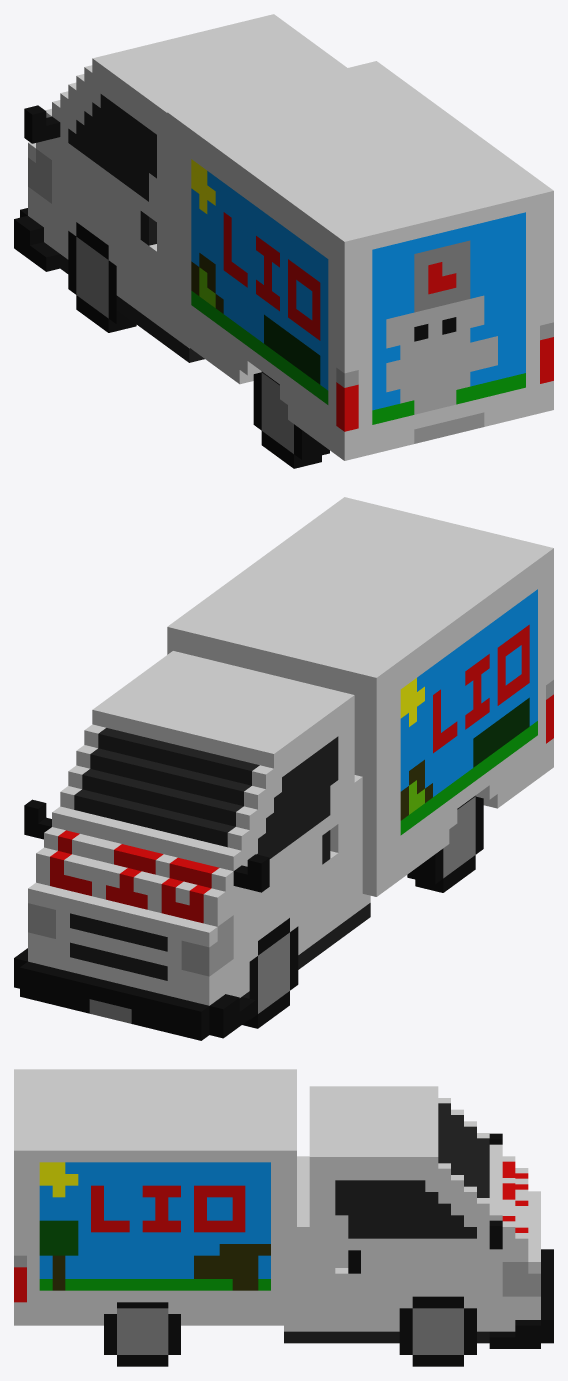
File: bimbofake.fbx
The picture shows the model from 3 angles, top to bottom: view 1: azimuth 30°, elevation 25°; view 2: azimuth 150°, elevation 25°; view 3: azimuth 270°, elevation 25°; orthographic projection. The views are drawn at different scales.
Visible parts, largest first — view 1: Cubo.3624; view 2: Cubo.3624; view 3: Cubo.3624.
Boxes of the visible parts, x1=… form: Cubo.3624: x1=14, y1=14, x2=553, y2=468; Cubo.3624: x1=14, y1=497, x2=553, y2=1040; Cubo.3624: x1=14, y1=1069, x2=553, y2=1366.
Bounding box in the file's own units: 1700 × 1900 × 4200.
